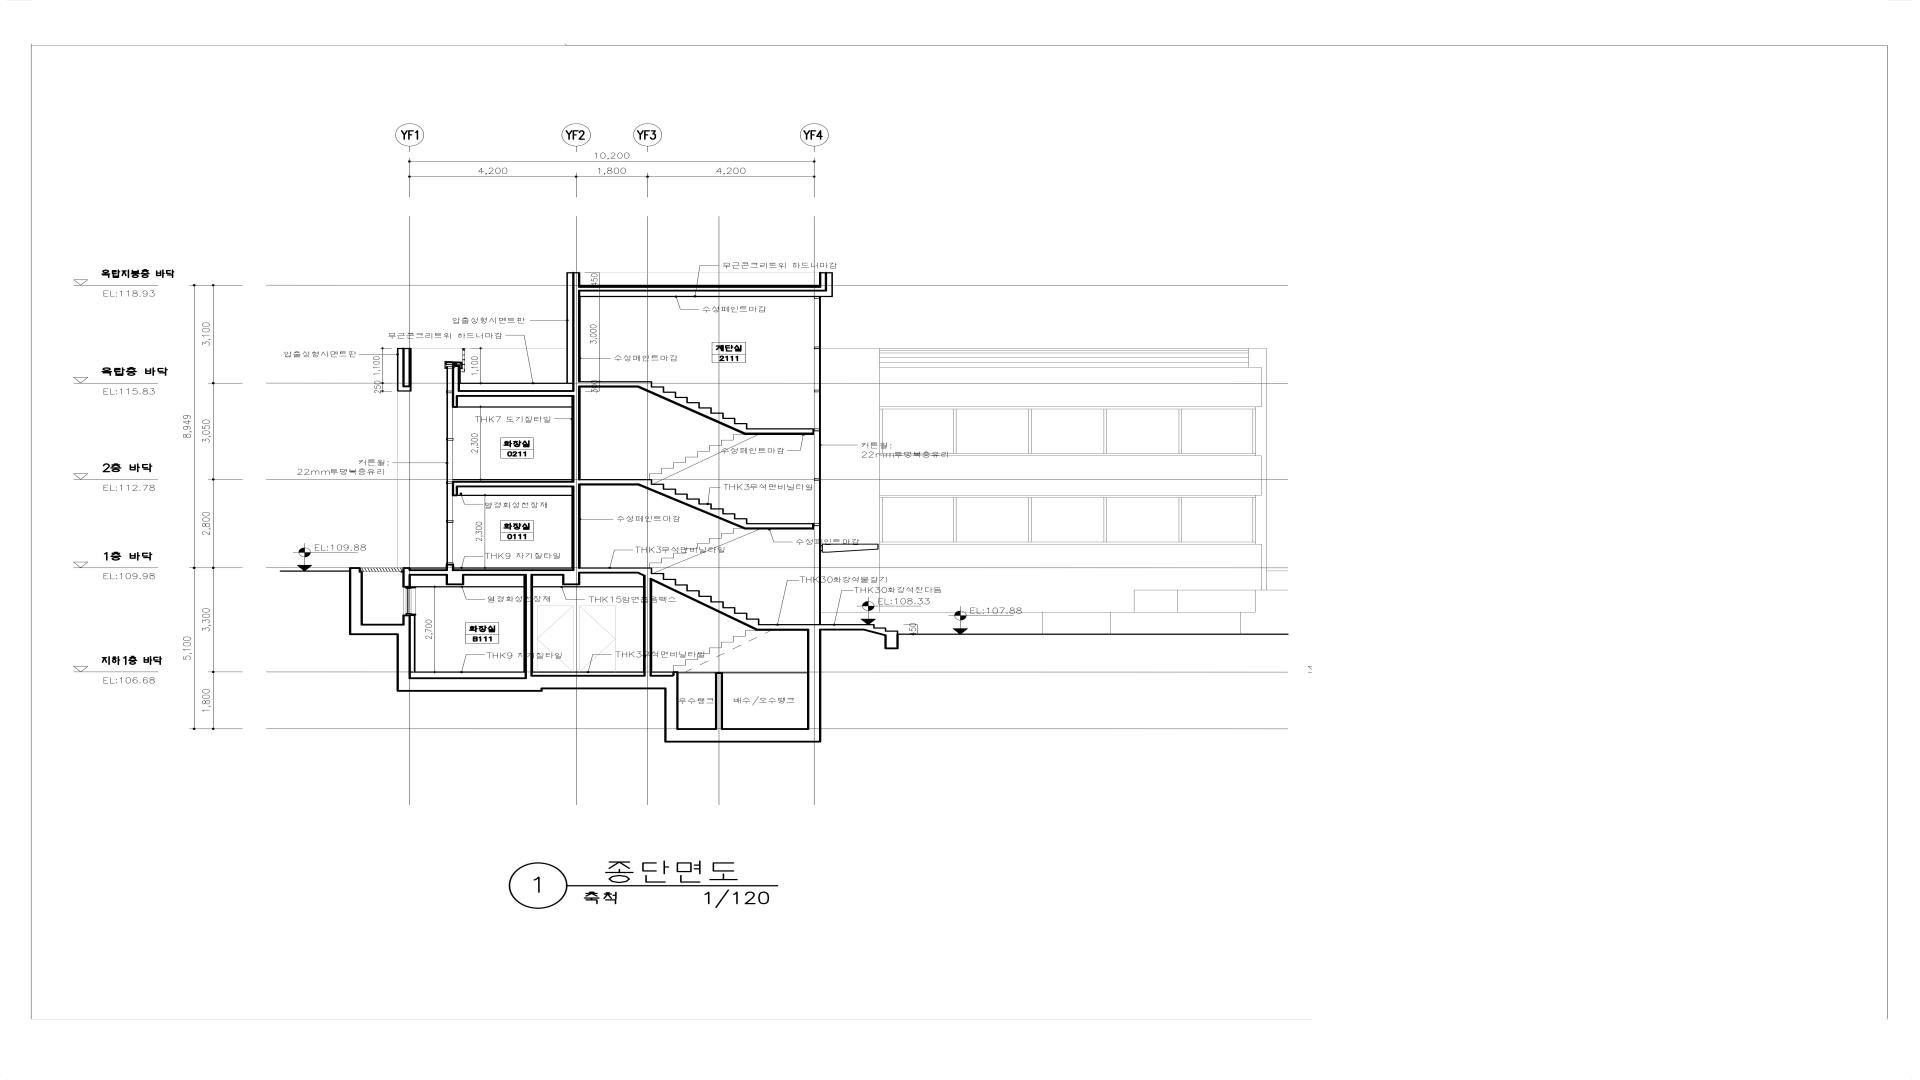background: (0, 0, 1920, 1080)
wall: (637, 567, 862, 630), (638, 381, 815, 435), (638, 479, 814, 530), (411, 675, 665, 692), (571, 272, 580, 568), (678, 728, 822, 742), (452, 481, 571, 496), (580, 290, 825, 297), (464, 567, 637, 576), (807, 630, 822, 728), (397, 615, 411, 692), (642, 576, 653, 675), (665, 671, 678, 742), (524, 576, 533, 675), (349, 567, 363, 636), (862, 624, 898, 649), (814, 526, 822, 624), (460, 390, 572, 397), (444, 361, 463, 390), (715, 673, 723, 728), (363, 624, 397, 636), (446, 564, 464, 585), (580, 381, 638, 388), (580, 479, 638, 485), (446, 522, 454, 564), (452, 365, 460, 407), (814, 297, 820, 347), (814, 480, 820, 526), (410, 616, 415, 673), (814, 392, 820, 431), (410, 570, 446, 576), (447, 440, 452, 484), (723, 671, 807, 674), (562, 575, 580, 585), (402, 567, 410, 588), (825, 273, 832, 297), (678, 671, 715, 674)
window: (446, 390, 454, 440), (404, 587, 417, 616), (814, 431, 820, 481), (446, 484, 454, 522), (814, 347, 820, 392)
